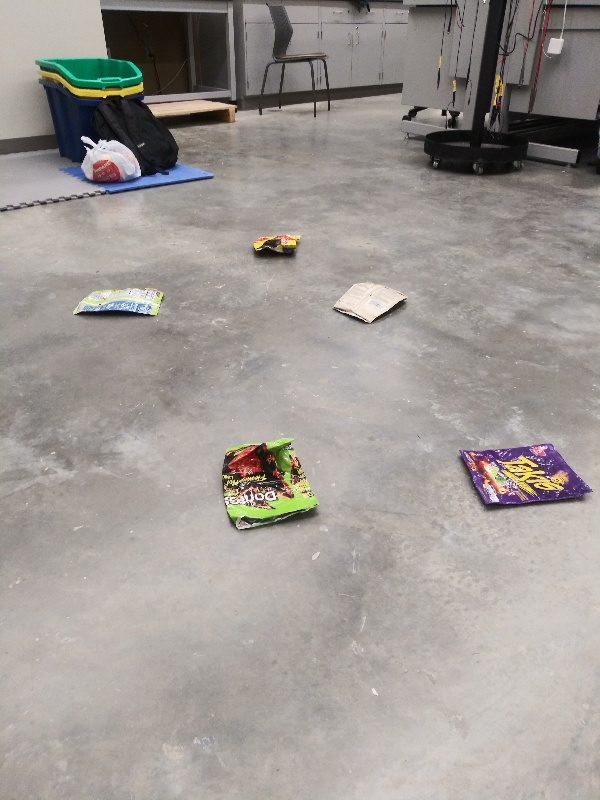bag: (217, 432, 326, 532), (454, 439, 595, 512), (329, 280, 410, 329), (69, 284, 167, 320), (248, 230, 307, 259)
